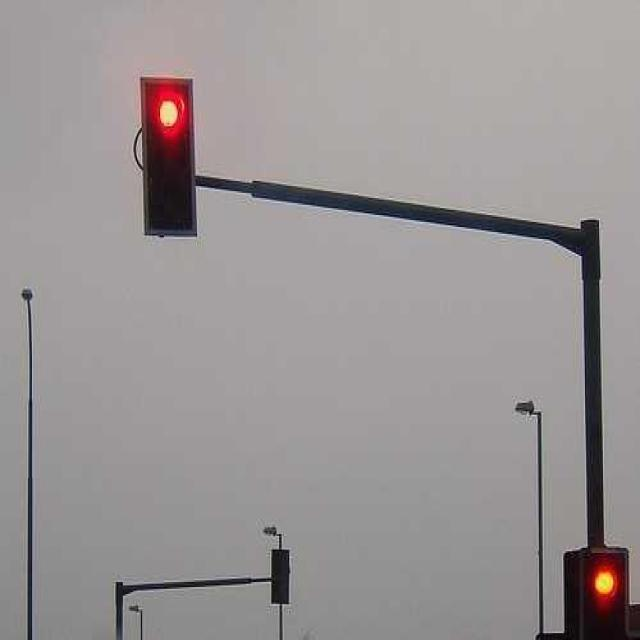Traffic Light -Red-: (133, 73, 197, 241), (578, 543, 631, 640)
